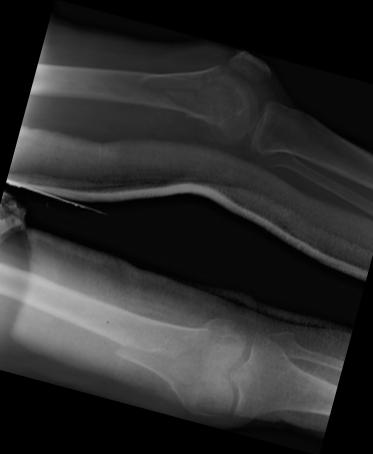fractured: (135, 60, 223, 126), (108, 326, 213, 362)
